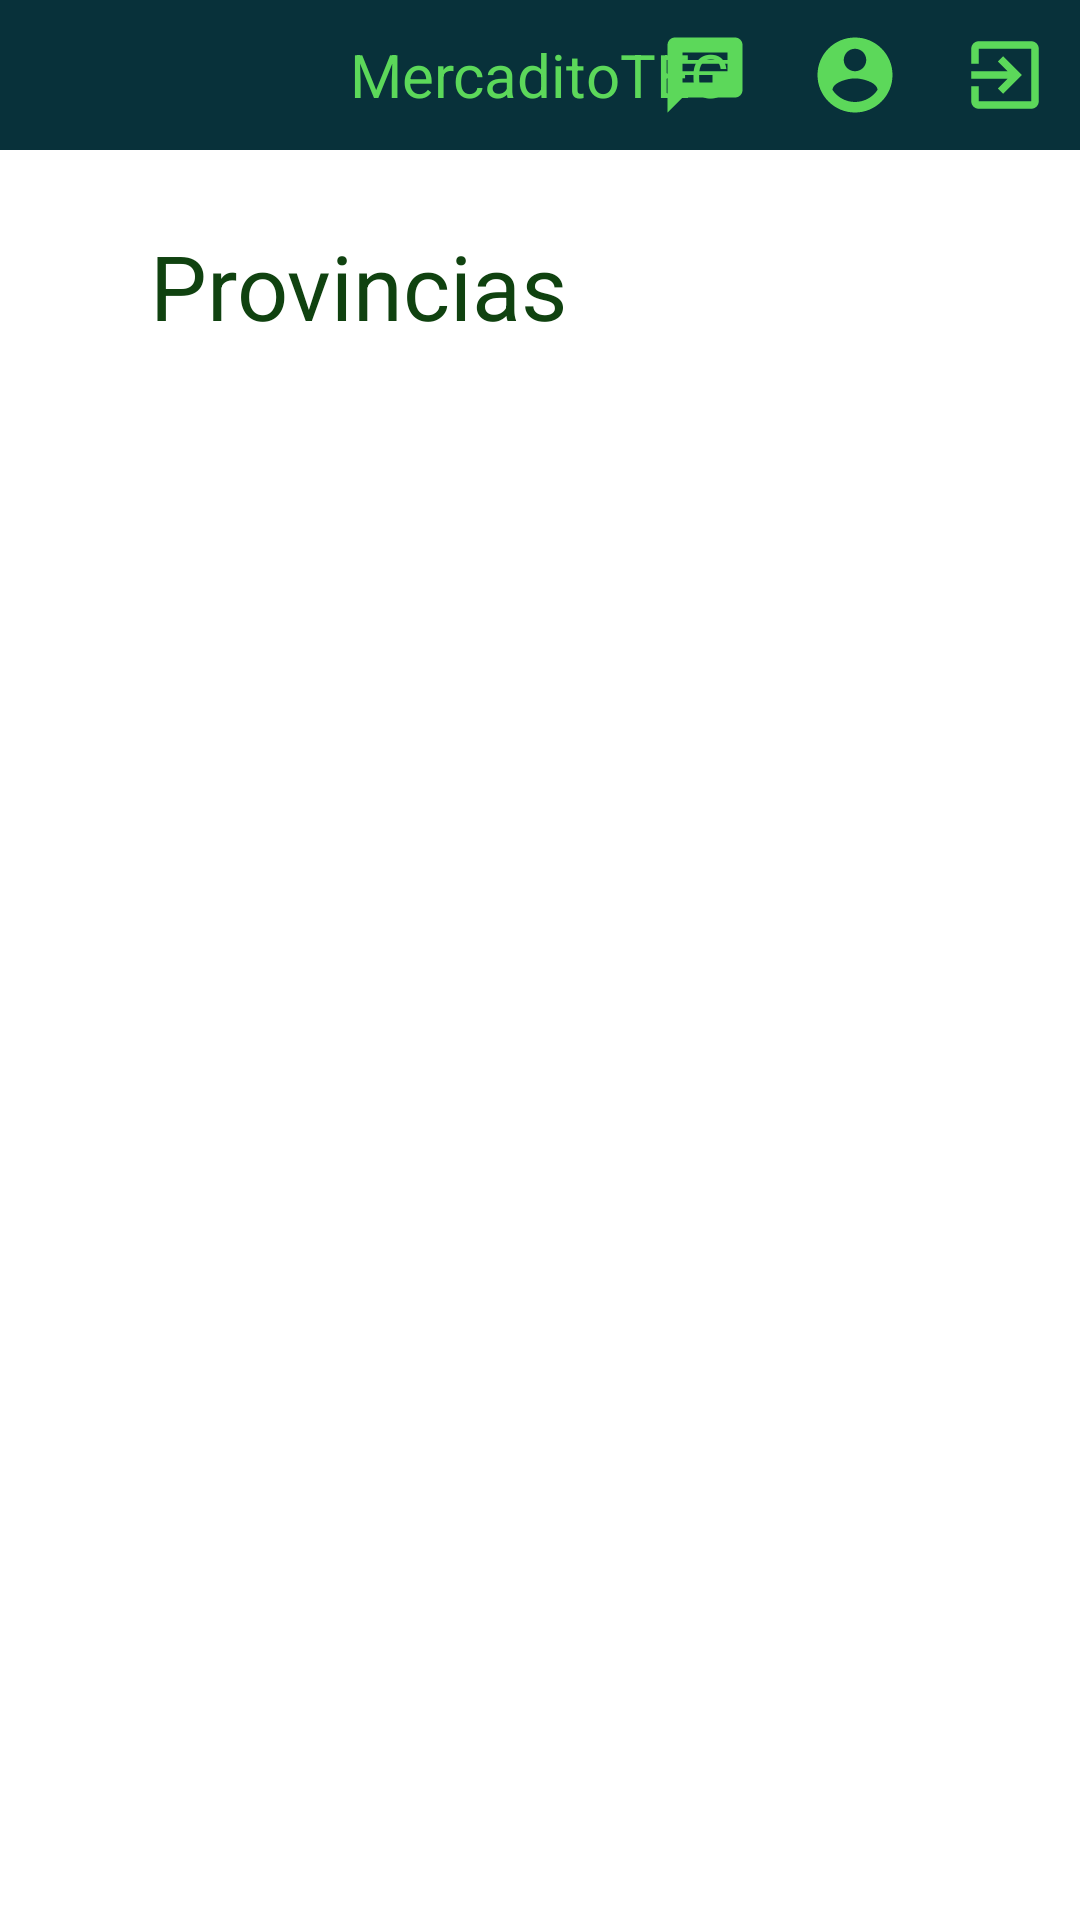

Point at icon controls on the screen. Image size 1080×1920, points as (x=x, y=y).
account circle: (x=855, y=75)
chat: (x=702, y=75)
exit to app: (x=1005, y=75)
